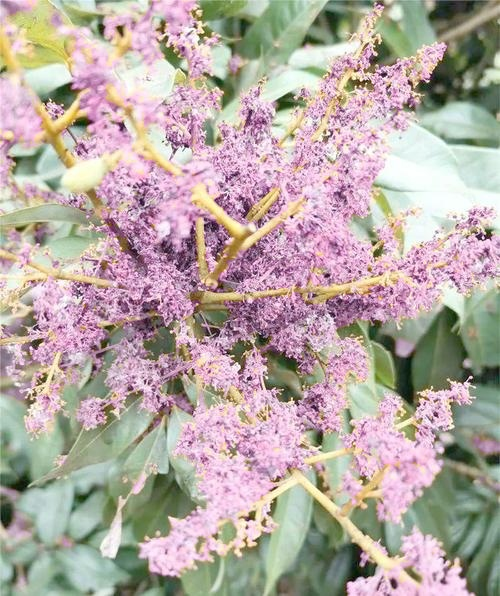Anthracnose: (6, 21, 446, 549)
